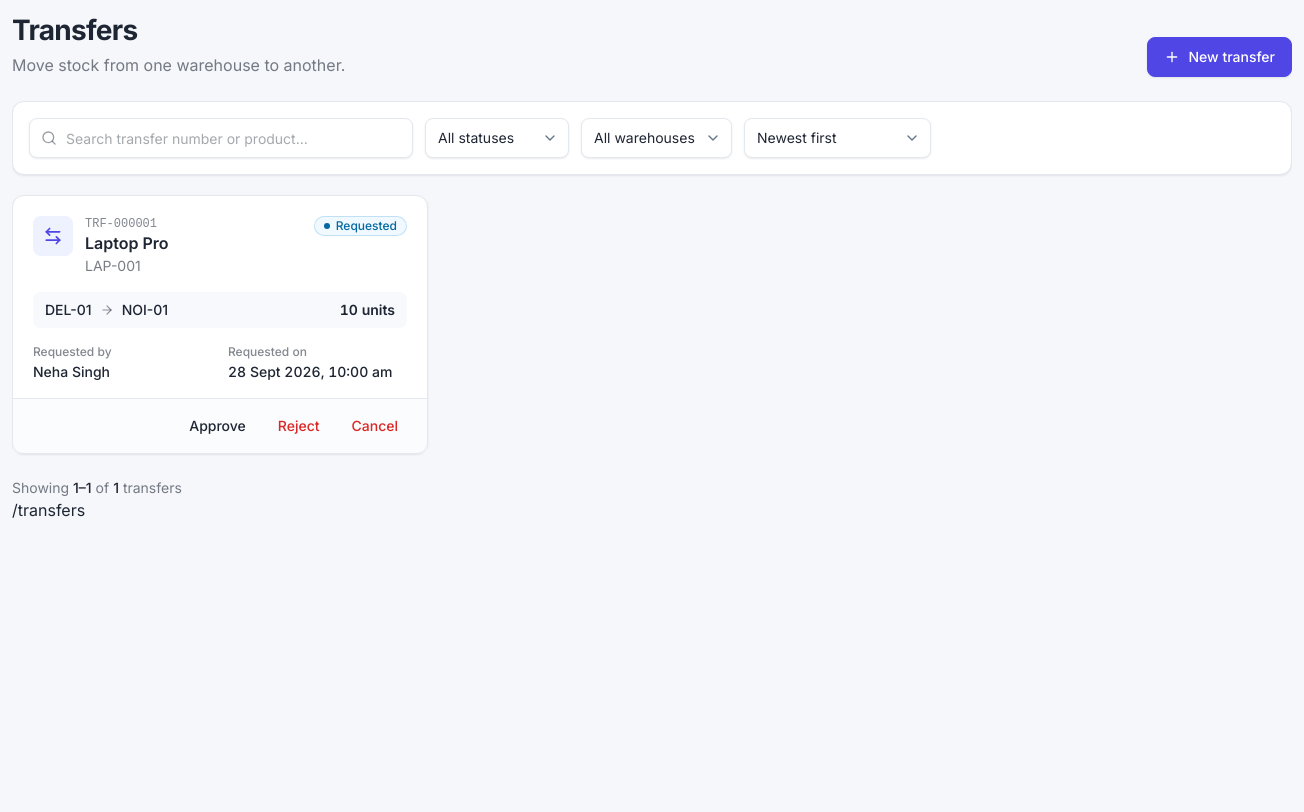
TransfersPage › approve runs straight away
The image size is (1304, 812).
Step 1. Click the button with aria-label "Approve TRF-000001" → [218, 426], box [176, 409, 259, 443]
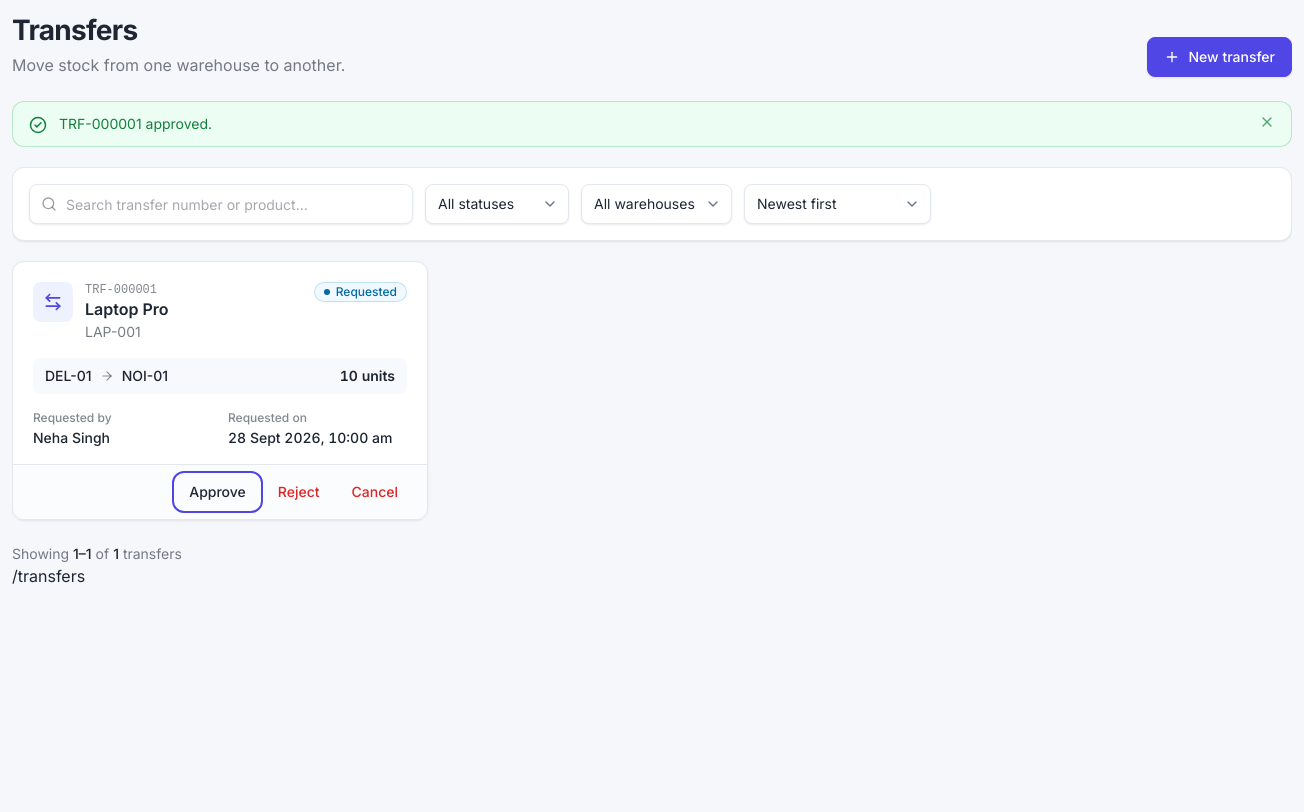
Check: the text "TRF-000001 approved." is shown, box [59, 115, 212, 132]
